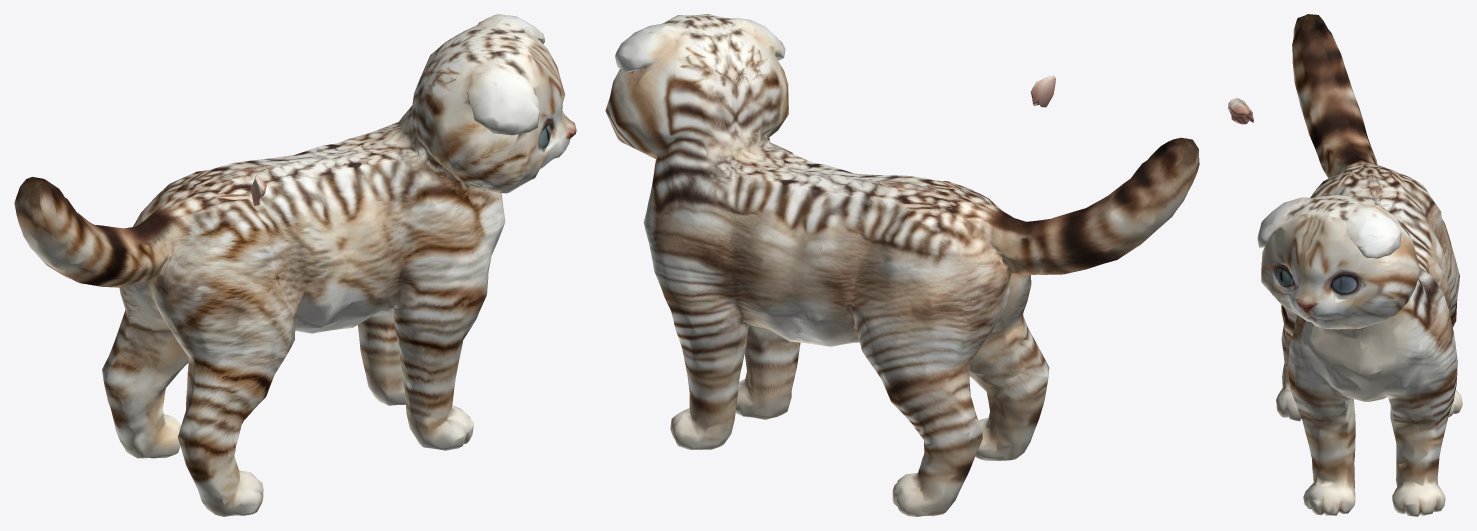
File: OLIVIACAT.glb
The picture shows the model from 3 angles, left to right: view 1: azimuth 30°, elevation 25°; view 2: azimuth 150°, elevation 25°; view 3: azimuth 270°, elevation 25°; orthographic projection. The views are drawn at different scales.
Visible parts, largest first — view 1: fit; view 2: fit; view 3: fit.
Part boxes in pixels (<box>): fit: <box>14,14,576,516</box>; fit: <box>605,14,1199,516</box>; fit: <box>1228,14,1462,516</box>.
Size of the model in its own units: 1.5 by 1 by 0.6377.
Materials: 1 (1 with a texture image).
